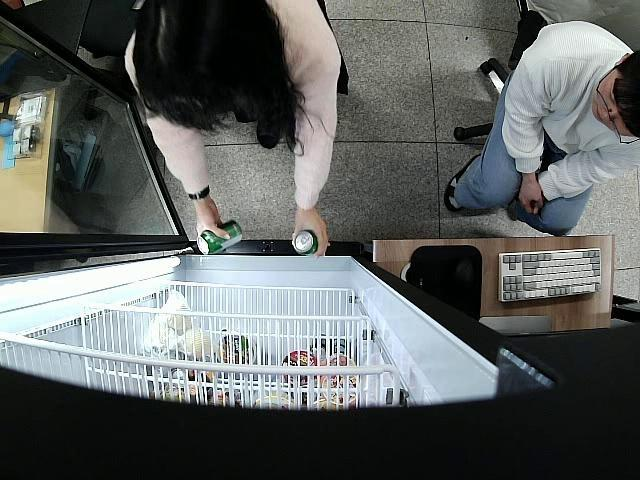12_chilsungCider: (196, 219, 243, 256), (292, 228, 318, 255)
